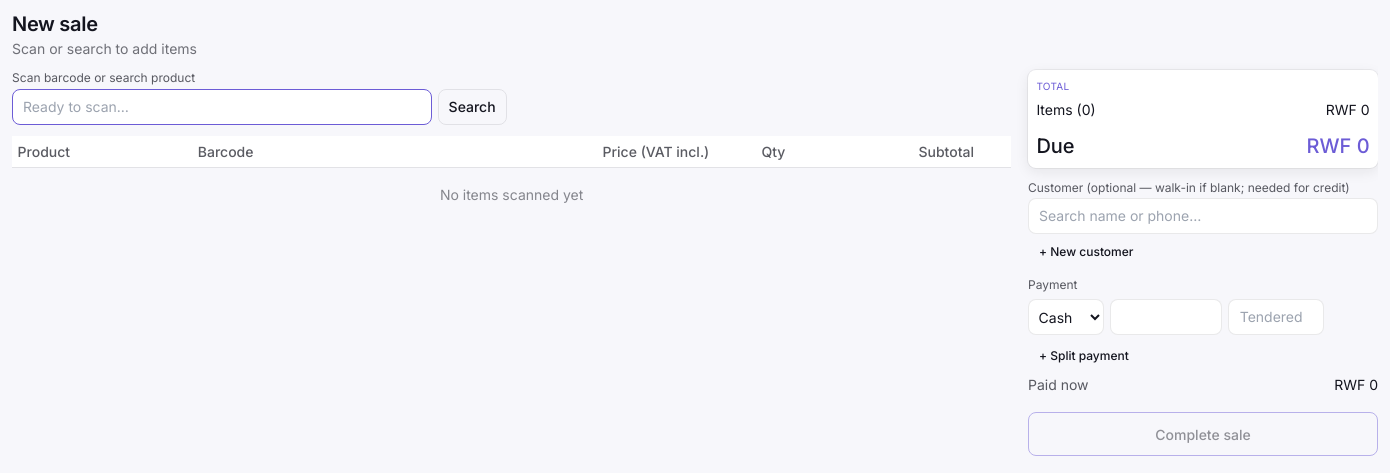
Test: PosCheckout › shows an error toast and keeps the cart when the sale submission fails
Type "PES-AUD-00147" into the field labelled "Scan barcode or search product". click: (222,107)
box: [12,89,432,125]
Then press Enter
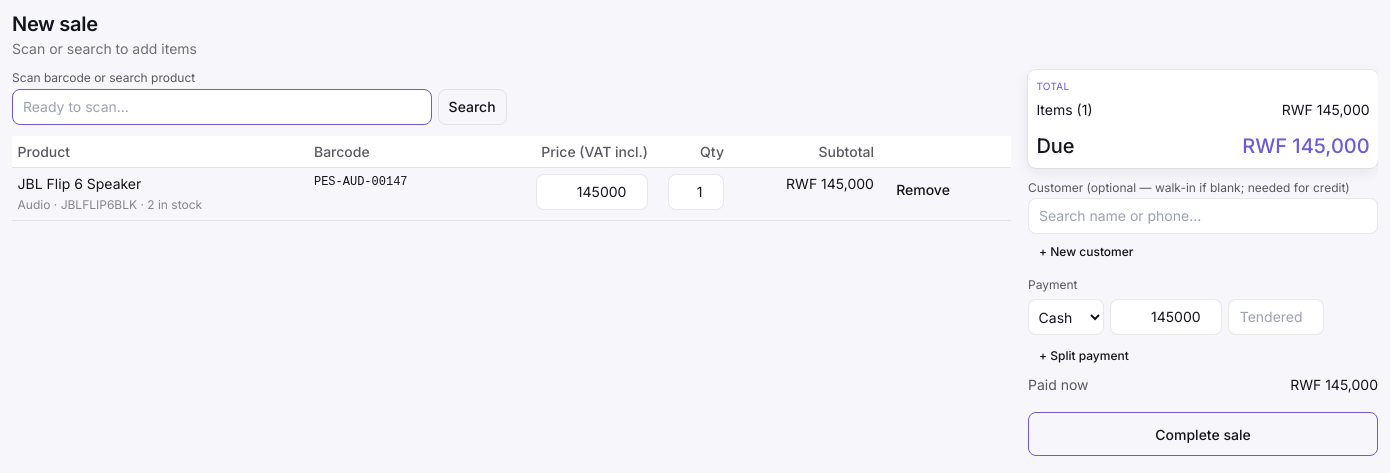
Click the button "Complete sale". click: (1203,434)
box: [1028,412,1378,456]
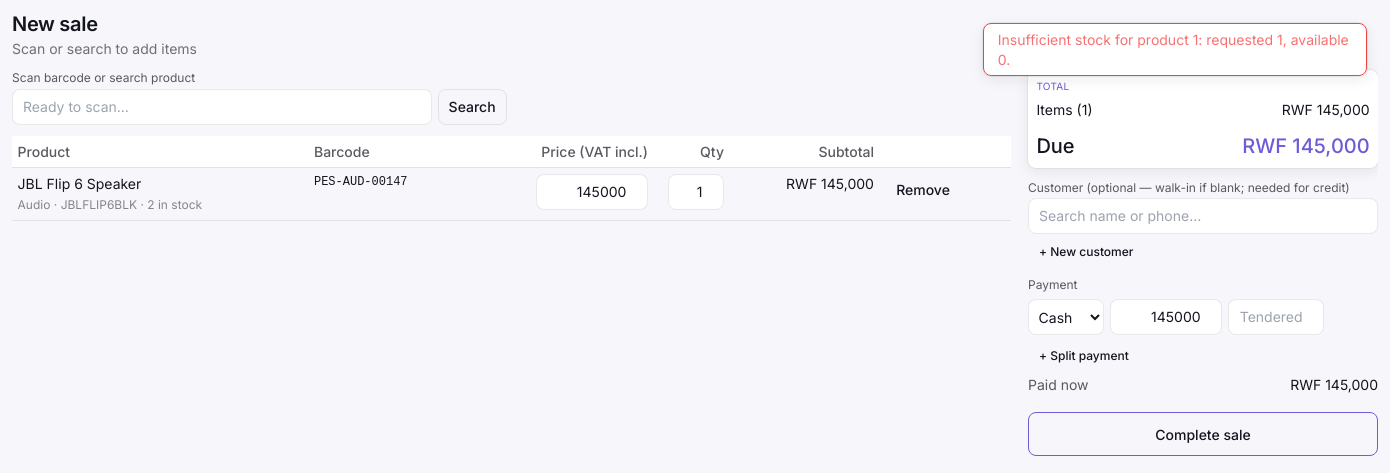
Expected: the text "JBL Flip 6 Speaker" is shown, [18,175,141,192]
Expected: the text "Insufficient stock for product 1: requested 1, available 0." is shown, [983,23,1367,76]
